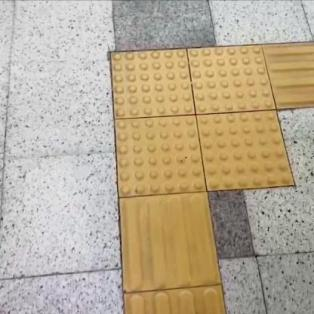Podoctatil: (96, 24, 314, 229), (119, 198, 226, 313)
